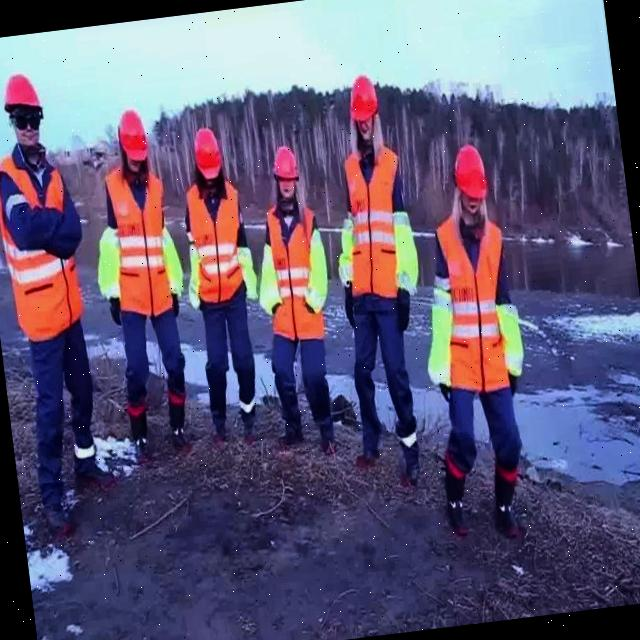vest: (427, 208, 522, 397), (0, 146, 88, 349), (332, 142, 416, 303), (104, 164, 178, 324), (256, 206, 332, 348), (183, 177, 250, 305)
